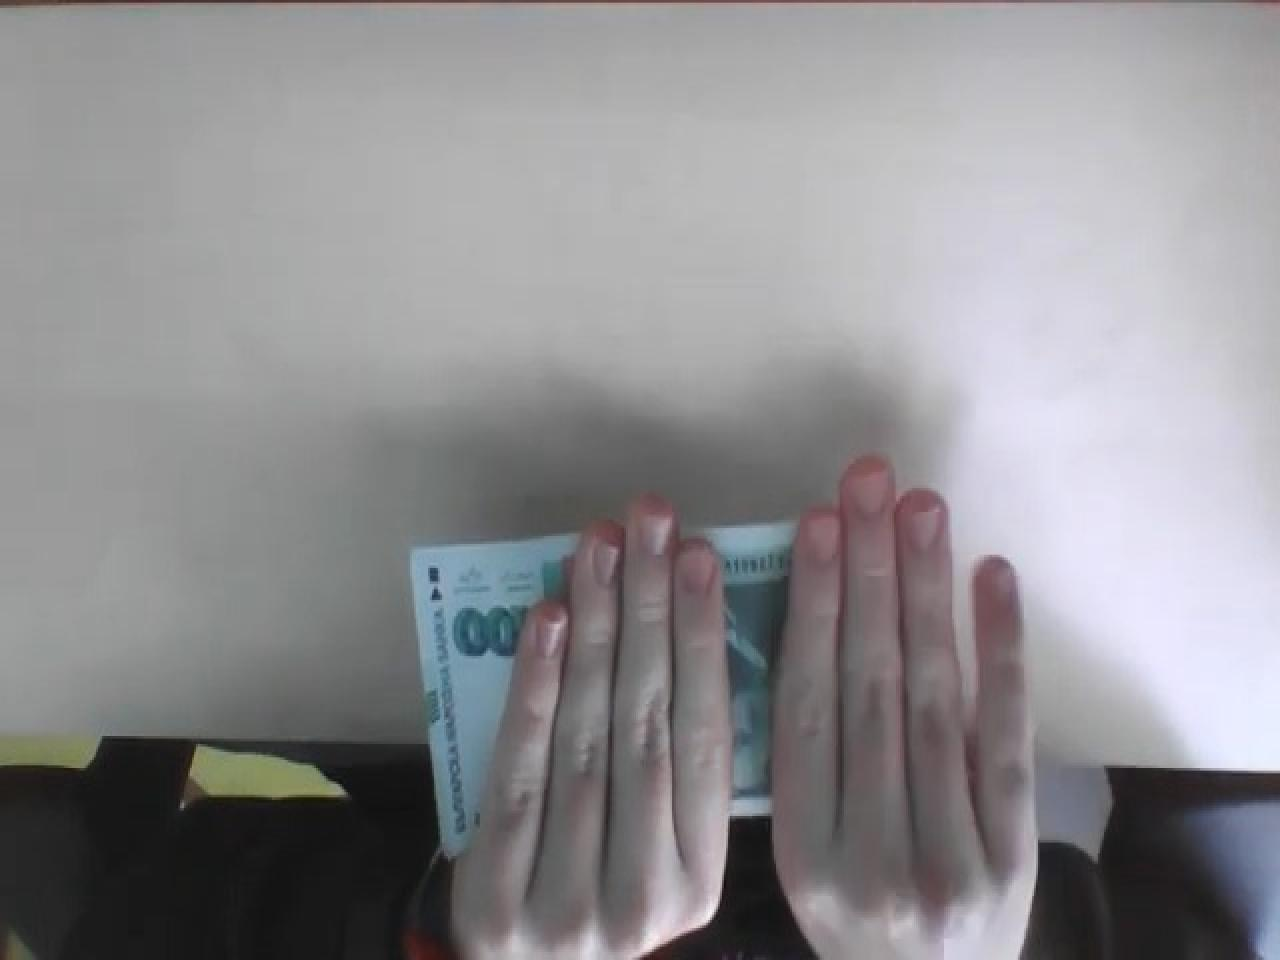100leva: (410, 514, 804, 864), (452, 603, 530, 665)
